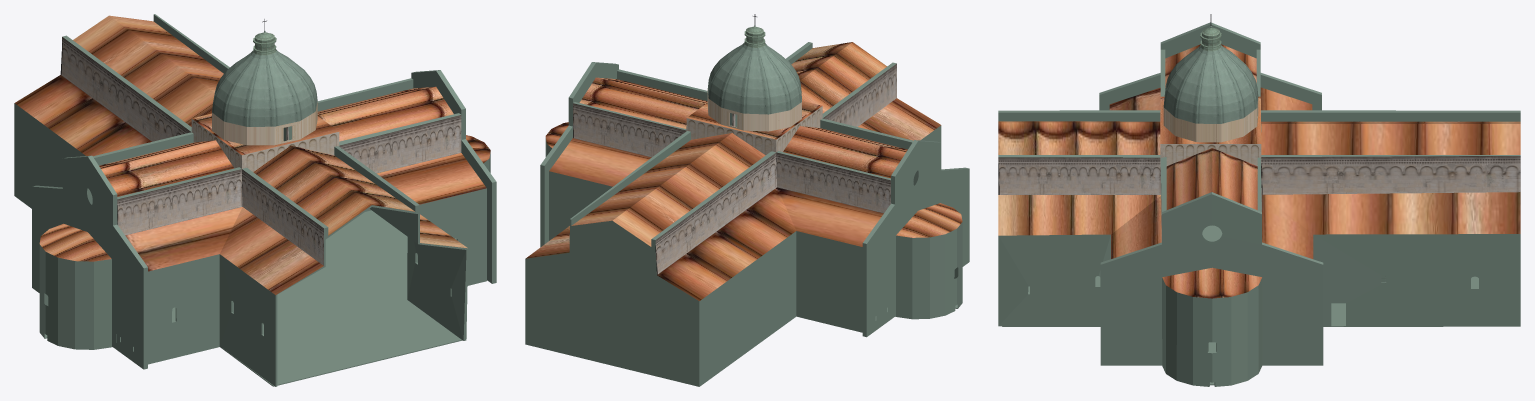
Rendered from Duomo_vero.fbx.
The picture shows the model from 3 angles, left to right: view 1: azimuth 30°, elevation 25°; view 2: azimuth 150°, elevation 25°; view 3: azimuth 270°, elevation 25°; orthographic projection. The views are drawn at different scales.
Visible parts, largest first — view 1: Duomo; view 2: Duomo; view 3: Duomo.
Part boxes in pixels (x1,y1,x2,y2): Duomo: [14, 14, 496, 386]; Duomo: [525, 14, 969, 386]; Duomo: [998, 14, 1520, 386].
Size of the model in its own units: 4999 by 2909 by 5159.
Materials: 7 (6 with a texture image).
